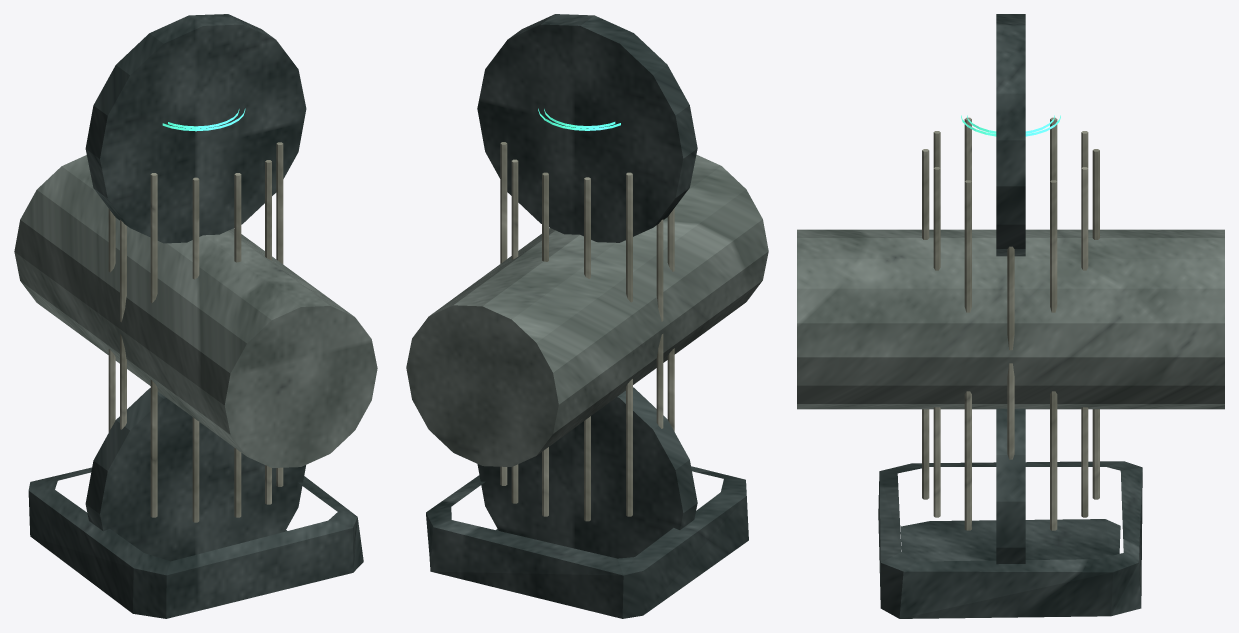
The model's file is 0298_fluted_column_23.glb.
3 views of the same model, side by side, from view 1: azimuth 30°, elevation 25°; view 2: azimuth 150°, elevation 25°; view 3: azimuth 270°, elevation 25° (orthographic).
Parts seen in each view (by area): view 1: stone_dark, stone, stone_light; view 2: stone_dark, stone, stone_light; view 3: stone, stone_dark, stone_light.
Boxes of the visible parts, x1,y1,x2,y2 form: stone_dark: (28,14,363,618); stone: (14,155,377,467); stone_light: (108,142,283,522); stone_dark: (426,14,748,618); stone: (406,154,768,466); stone_light: (500,142,674,521); stone: (797,229,1224,409); stone_dark: (878,14,1142,618); stone_light: (922,117,1099,530).
Size of the model in its own units: 1.27 by 3.07 by 2.05.
4 materials, 4 textured.
